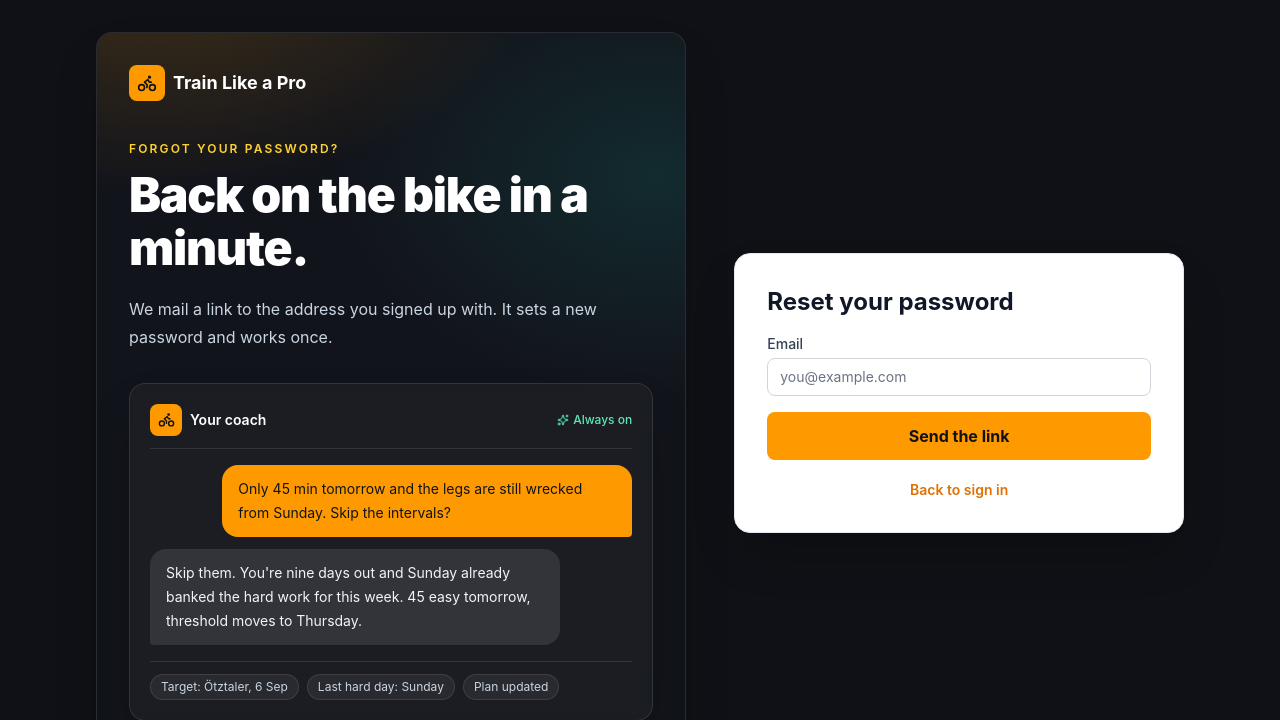
it: ForgotPasswordPage › shows any other failure and lets the athlete try again
The image size is (1280, 720).
Type "rider@example.com" into the field labelled "Email".
click(959, 377); type("rider@example.com")  # box [767, 358, 1151, 396]
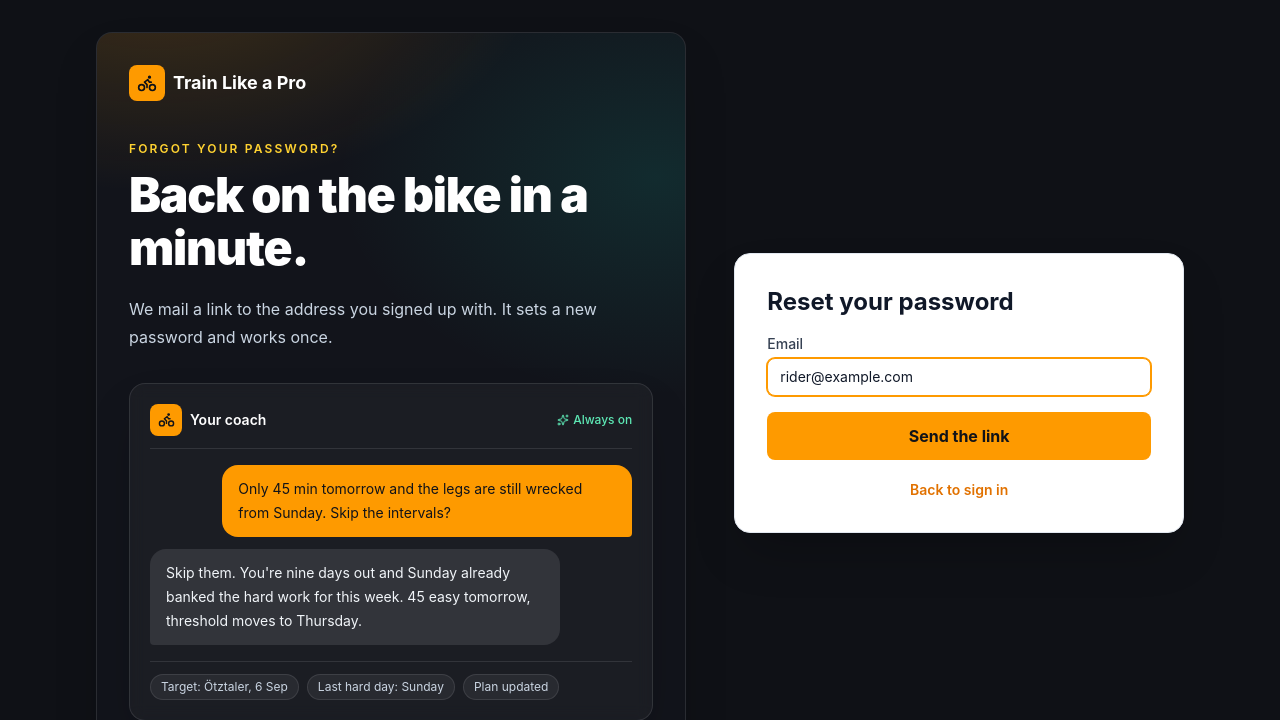
Click the button "Send the link".
click(959, 436)  # box [767, 412, 1151, 460]
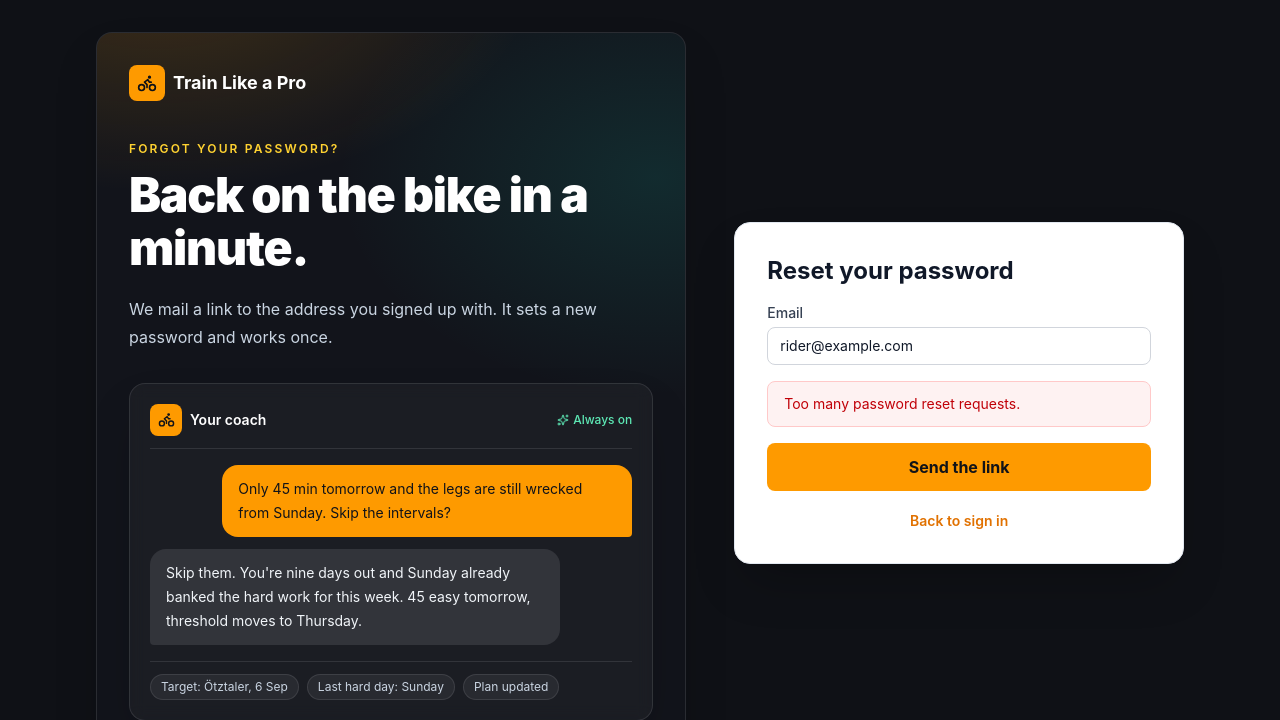
Check: the button "Send the link" is enabled, box [767, 443, 1151, 491]
Check: the message reads "Too many password reset requests.", box [784, 395, 1020, 412]
